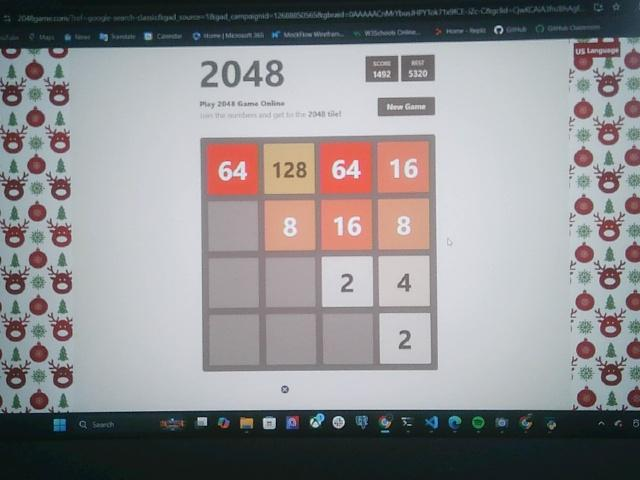board: (201, 137, 438, 369)
